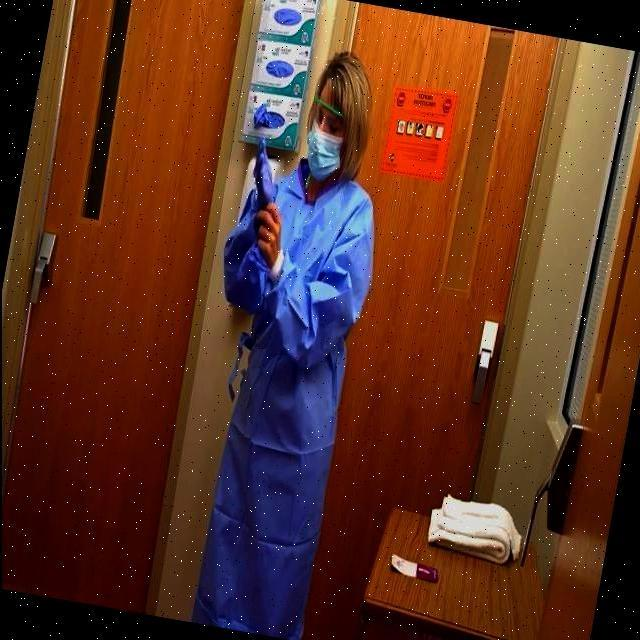no_apron: (238, 202, 292, 272)
